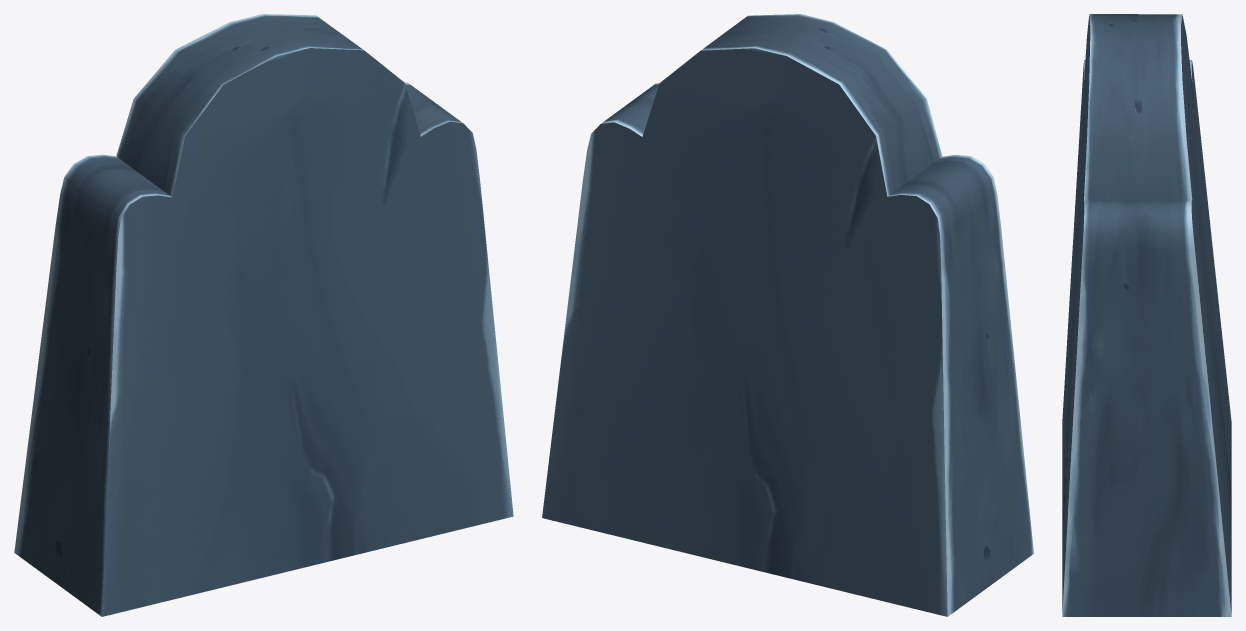
The model's file is SM_PROP_gravestone_v02_01.fbx.
3 renders of one model, left to right at view 1: azimuth 30°, elevation 25°; view 2: azimuth 150°, elevation 25°; view 3: azimuth 270°, elevation 25°, orthographic. The views are drawn at different scales.
Parts seen in each view (by area): view 1: SM_PROP_gravestone_v02_01; view 2: SM_PROP_gravestone_v02_01; view 3: SM_PROP_gravestone_v02_01.
Part boxes in pixels (left/top/right/bottom): SM_PROP_gravestone_v02_01: left=14, top=14, right=513, bottom=616; SM_PROP_gravestone_v02_01: left=542, top=14, right=1033, bottom=616; SM_PROP_gravestone_v02_01: left=1062, top=14, right=1231, bottom=616.
Size of the model in its own units: 118 by 138 by 43.58.
